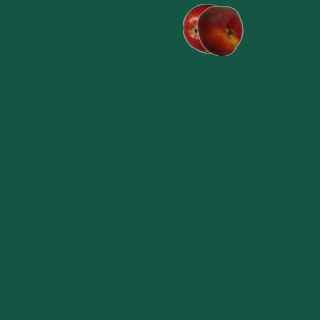Apple Braeburn: (182, 3, 232, 53)
Nectarine Flat: (194, 5, 244, 55)
